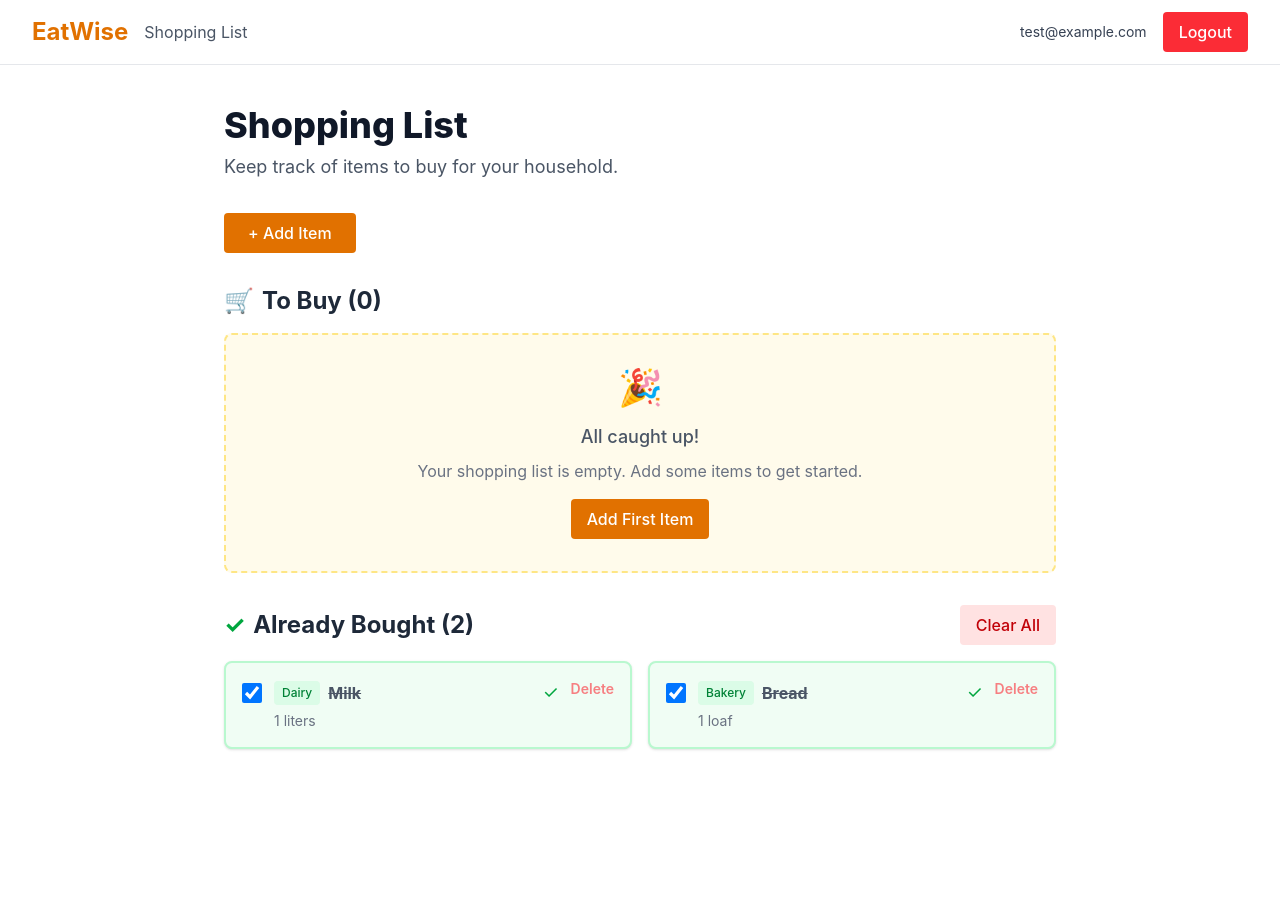
Test case: ShoppingList › should show success message when clearing purchased items
This screenshot has width=1280, height=900.
Click the button "Clear All" at (1008, 625), box 960,605 -> 1056,645
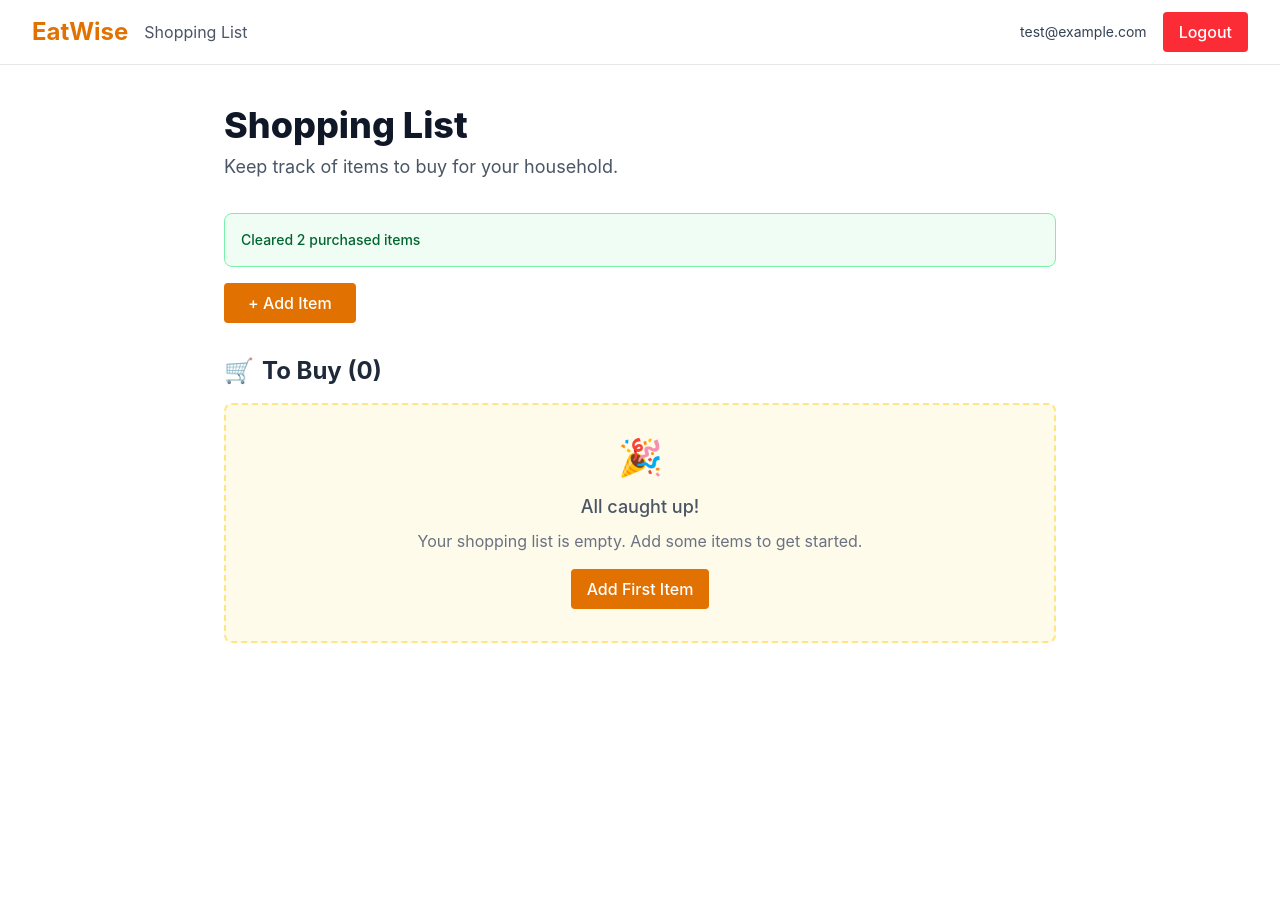
Now the text "Cleared 2 purchased items" is shown, box 224,213 -> 1056,267
